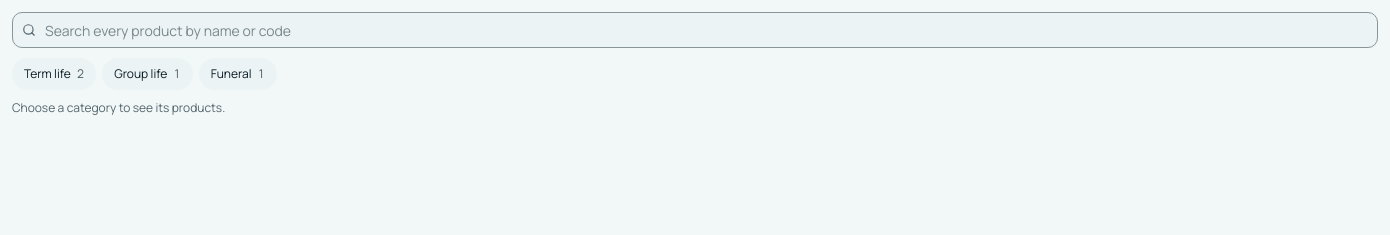
ProductChooser › asks for a category first, then lists that category with each description
This screenshot has width=1390, height=235.
Expected: the text "Choose a category to see its products." is shown, [12, 99, 225, 116]
Click the button "Term life 2" at (54, 74), box [12, 58, 96, 90]
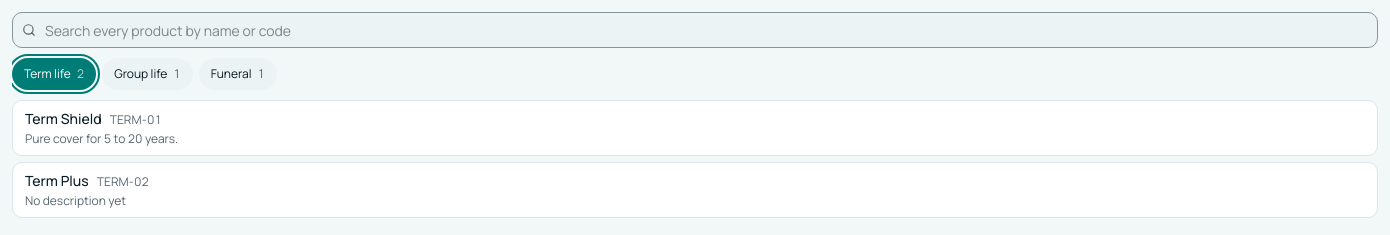
Now the button with aria-label "Term Shield (TERM-01)" shows "Pure cover for 5 to 20 years.", box [12, 100, 1378, 156]
Now the button with aria-label "Term Plus (TERM-02)" shows "No description yet", box [12, 162, 1378, 218]
